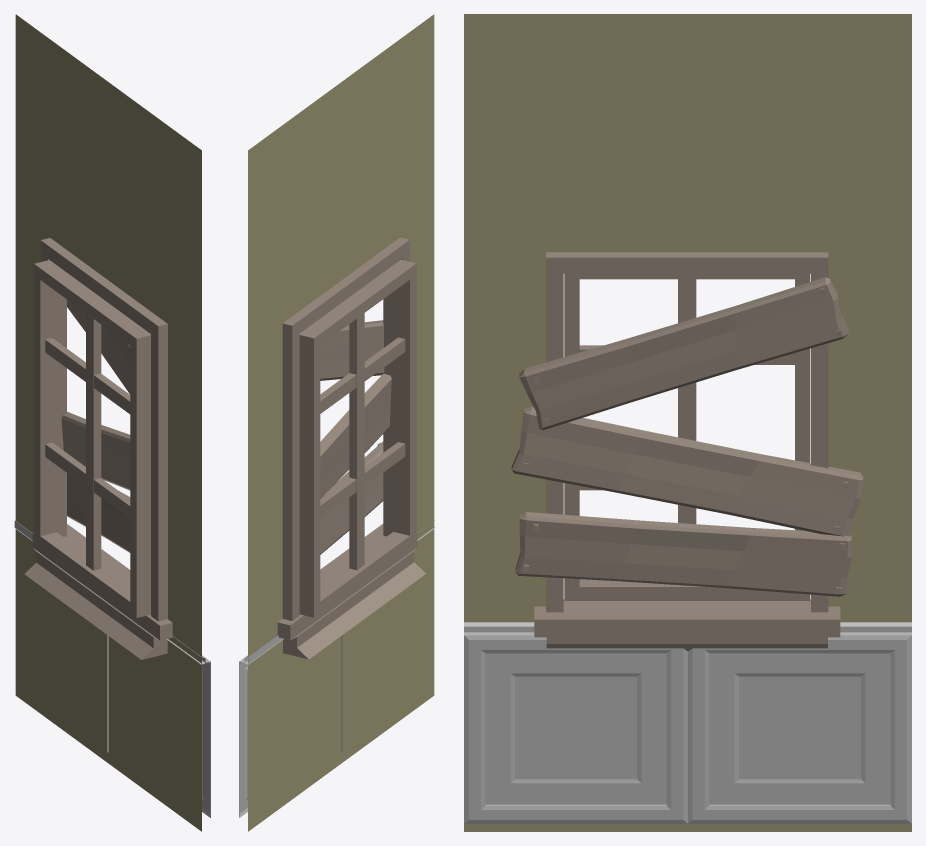
Rendered from WallWindowBoard.fbx.
3 renders of one model, left to right at view 1: azimuth 30°, elevation 25°; view 2: azimuth 150°, elevation 25°; view 3: azimuth 270°, elevation 25°, orthographic. The views are drawn at different scales.
Parts seen in each view (by area): view 1: WallWindowBoard; view 2: WallWindowBoard; view 3: WallWindowBoard.
Part boxes in pixels (left/top/right/bottom): WallWindowBoard: left=14, top=14, right=210, bottom=831; WallWindowBoard: left=239, top=14, right=435, bottom=831; WallWindowBoard: left=464, top=14, right=911, bottom=831.
Bounding box in the file's own units: 48.05 × 605 × 300.
